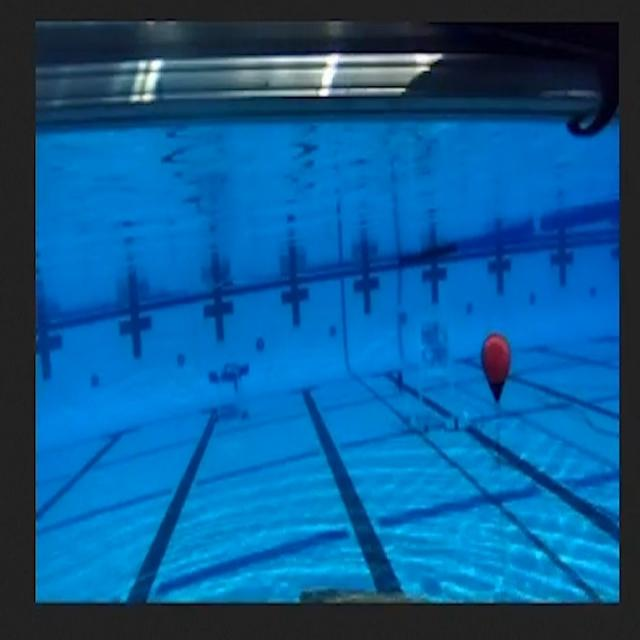Buoy: (478, 323, 515, 414)
